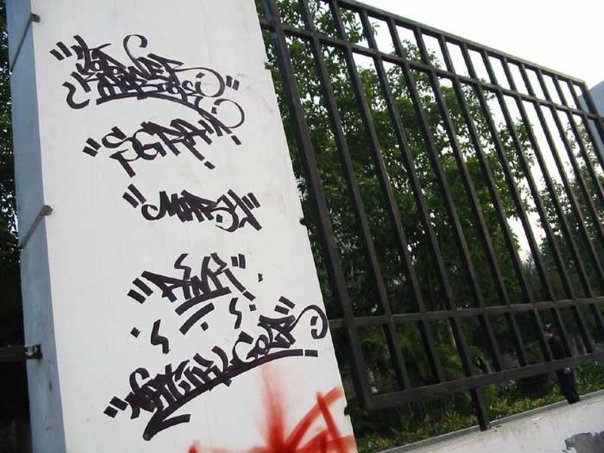graffity: (92, 288, 331, 443), (41, 26, 274, 184), (107, 250, 268, 357), (105, 178, 276, 242)
